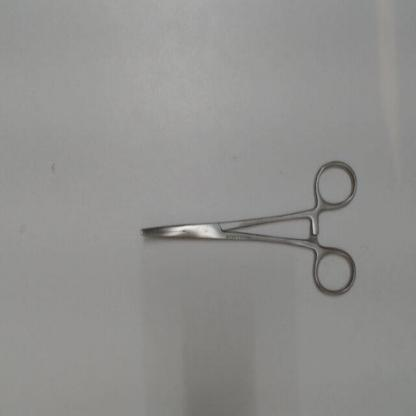Crile Artery Forceps: (129, 152, 365, 309)
